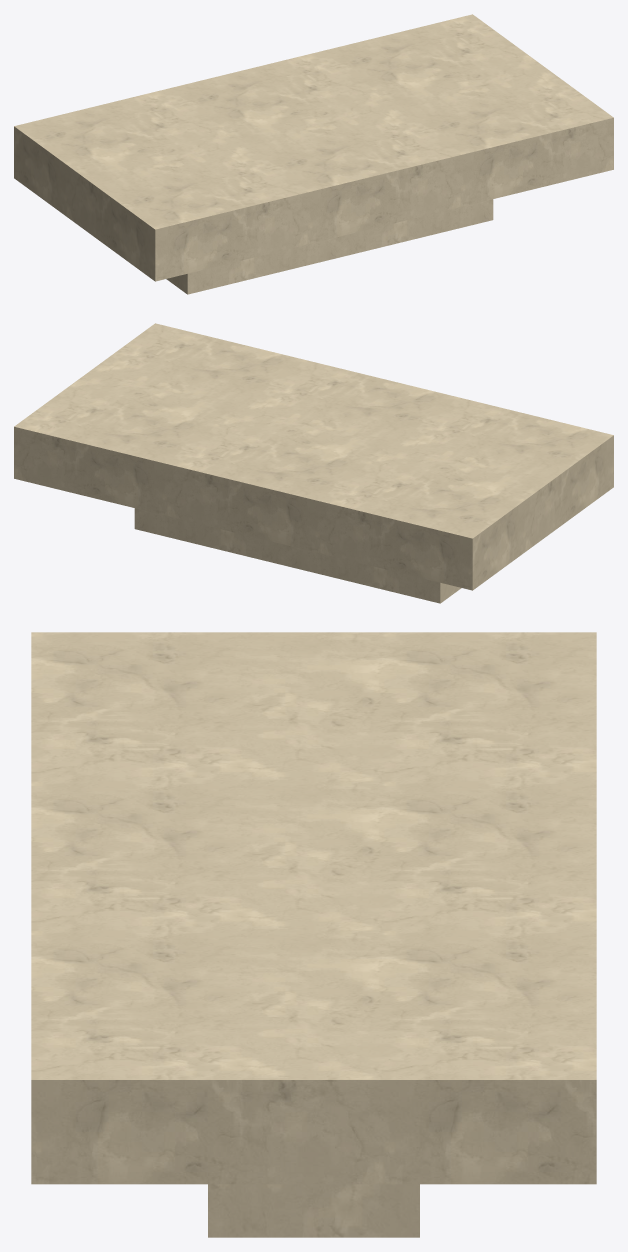
The model's file is dentil_cornice_bay.glb.
3 renders of one model, top to bottom at view 1: azimuth 30°, elevation 25°; view 2: azimuth 150°, elevation 25°; view 3: azimuth 270°, elevation 25°, orthographic. The views are drawn at different scales.
Visible parts, largest first — view 1: dentil_cornice_bay; view 2: dentil_cornice_bay; view 3: dentil_cornice_bay.
Boxes of the visible parts, left/top/right/bottom form: dentil_cornice_bay: left=14, top=14, right=613, bottom=294; dentil_cornice_bay: left=14, top=323, right=613, bottom=603; dentil_cornice_bay: left=31, top=632, right=596, bottom=1237.
Bounding box in the file's own units: 6 × 1.45 × 3.2.
Materials: 2 (1 with a texture image).
